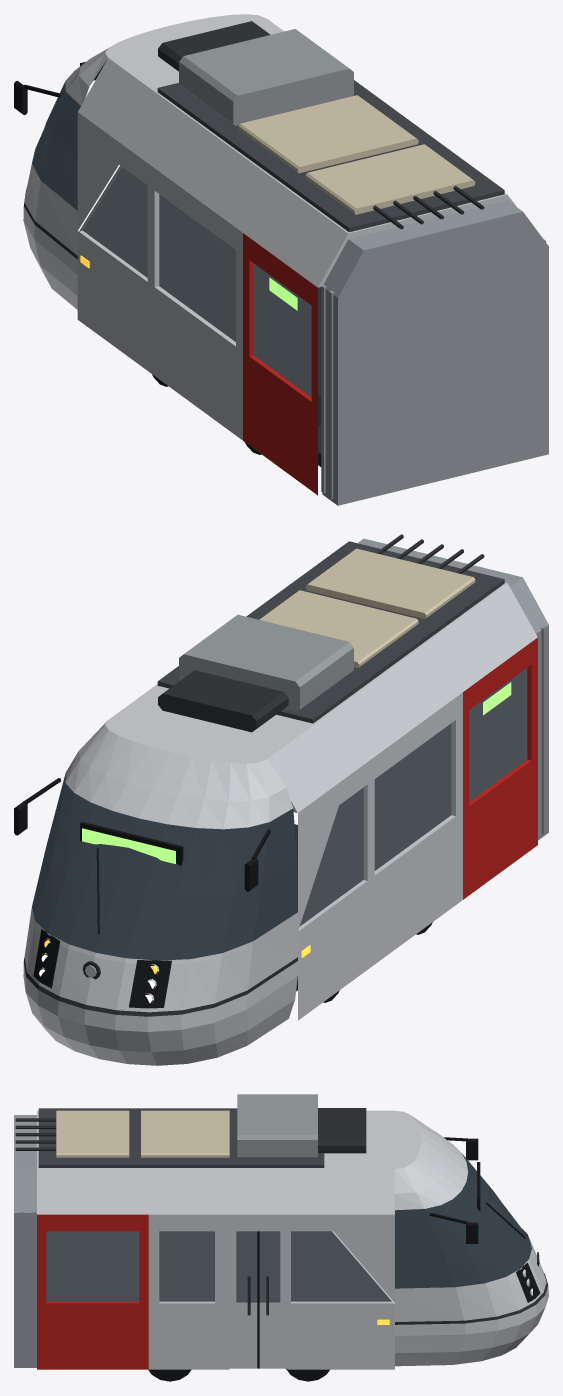
3 views of the same model, one above another, from view 1: azimuth 30°, elevation 25°; view 2: azimuth 150°, elevation 25°; view 3: azimuth 270°, elevation 25° (orthographic). The views are drawn at different scales.
Parts seen in each view (by area): view 1: 14t-a; view 2: 14t-a; view 3: 14t-a.
Part boxes in pixels (left/top/right/bottom): 14t-a: left=14, top=14, right=548, bottom=505; 14t-a: left=14, top=534, right=548, bottom=1065; 14t-a: left=14, top=1094, right=548, bottom=1381.
Bounding box in the file's own units: 2.64 × 3.38 × 6.95.
